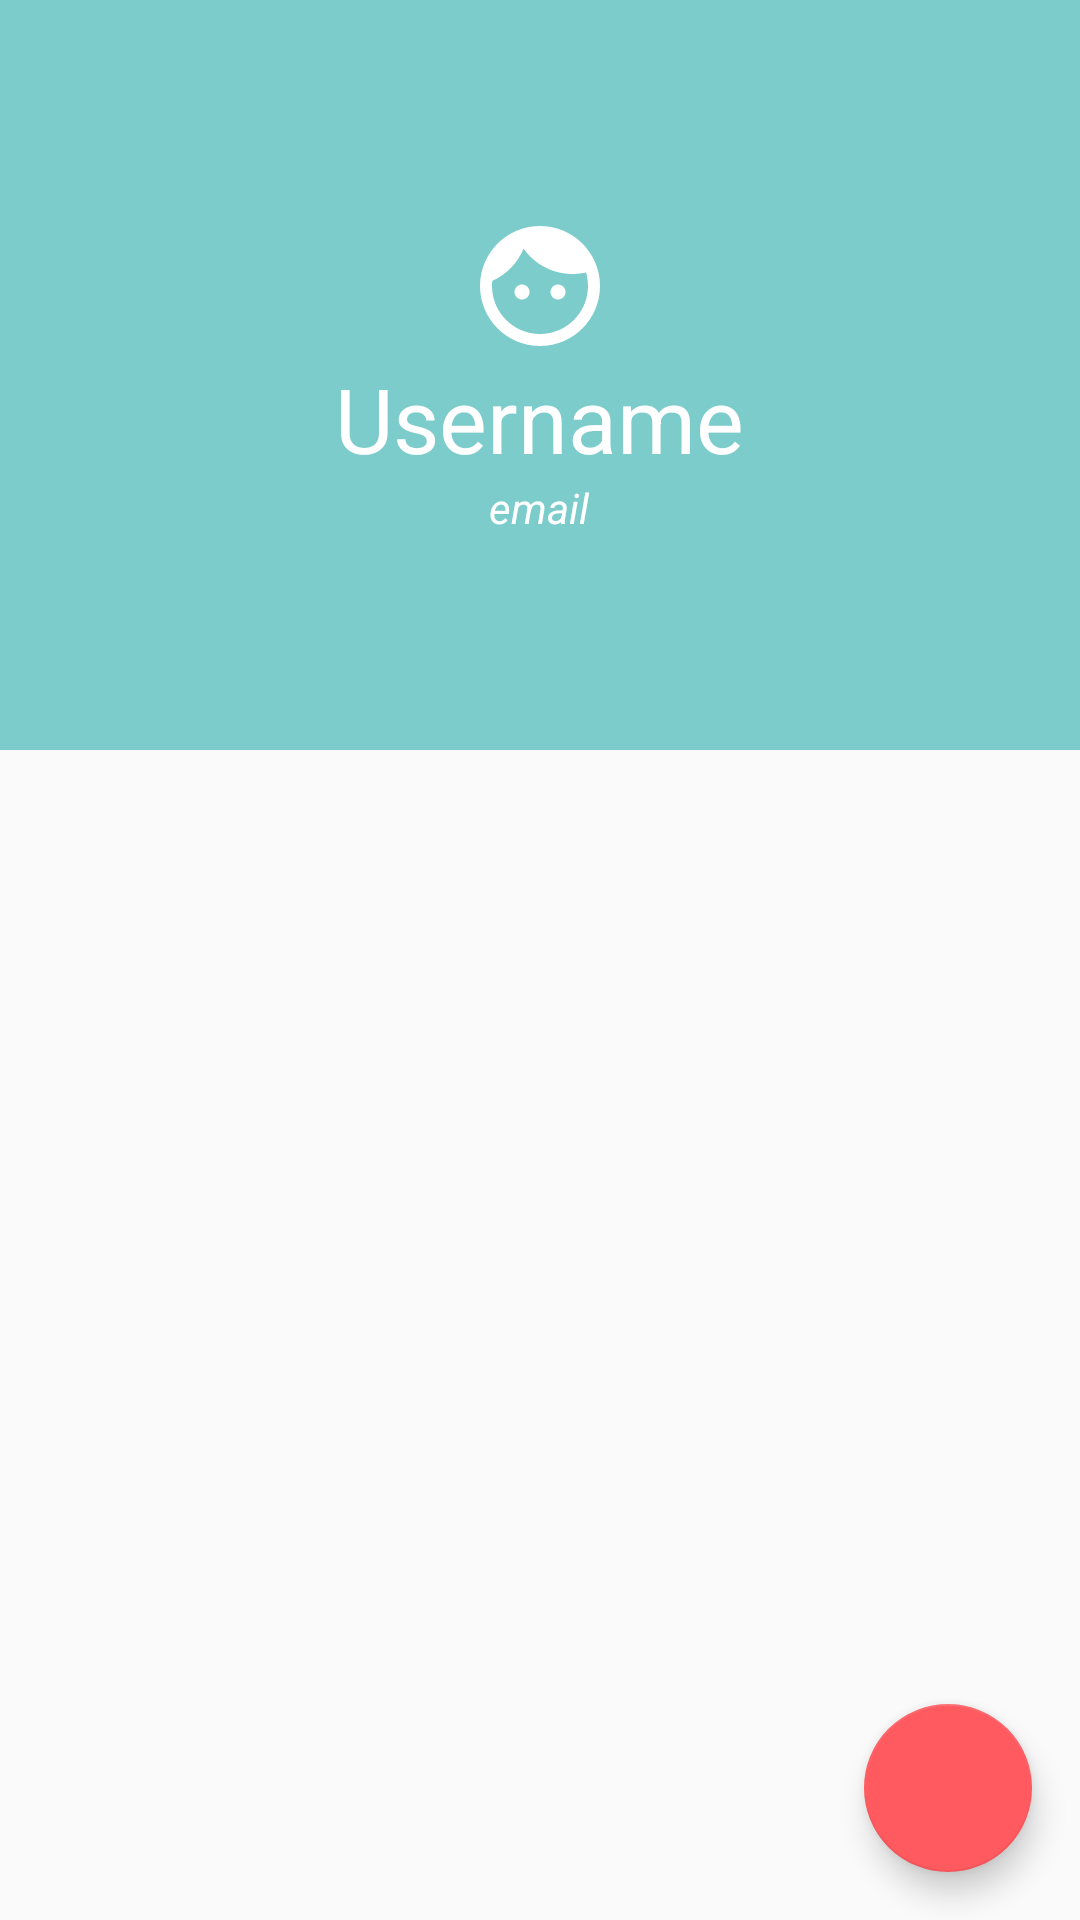

Named icons in this screenshot (1080px×1920px) and their centers, [x,y]:
face: [540,286]
